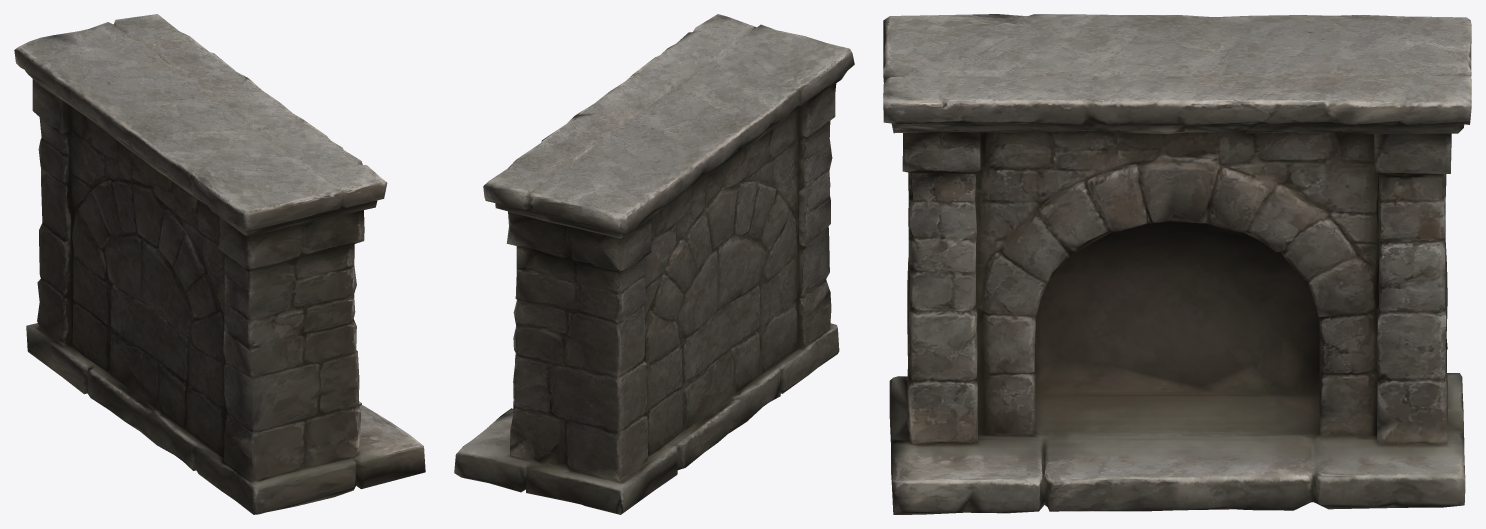
Rendered from stone+fireplace+3d+model.glb.
The picture shows the model from 3 angles, left to right: view 1: azimuth 30°, elevation 25°; view 2: azimuth 150°, elevation 25°; view 3: azimuth 270°, elevation 25°; orthographic projection. The views are drawn at different scales.
Visible parts, largest first — view 1: tripo_node_9721c88d-31be-4291-b39f-0832083fe7e4; view 2: tripo_node_9721c88d-31be-4291-b39f-0832083fe7e4; view 3: tripo_node_9721c88d-31be-4291-b39f-0832083fe7e4.
Part boxes in pixels (box(x1,y1,x2,y2)): tripo_node_9721c88d-31be-4291-b39f-0832083fe7e4: box(14, 14, 425, 514); tripo_node_9721c88d-31be-4291-b39f-0832083fe7e4: box(454, 14, 854, 514); tripo_node_9721c88d-31be-4291-b39f-0832083fe7e4: box(883, 14, 1471, 514).
Bounding box in the file's own units: 0.46 × 0.7359 × 1.
Materials: 1 (1 with a texture image).
